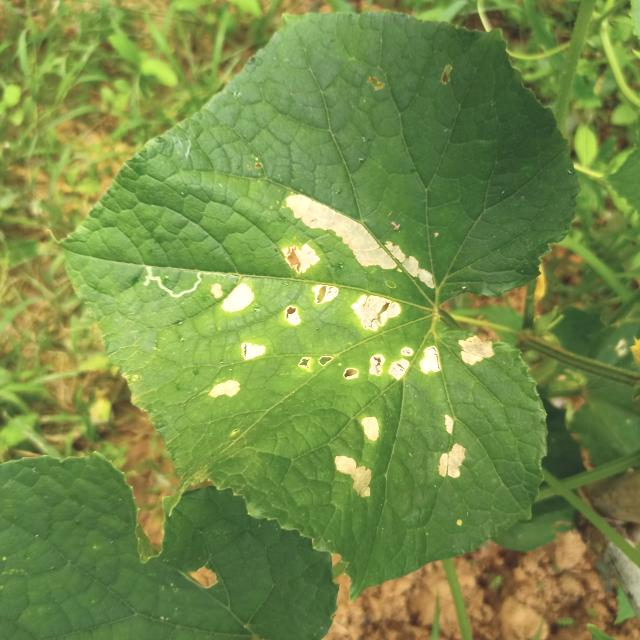disease_cucumber: (277, 194, 438, 334), (298, 332, 497, 387), (208, 280, 268, 401), (334, 413, 381, 502), (436, 412, 467, 482)
